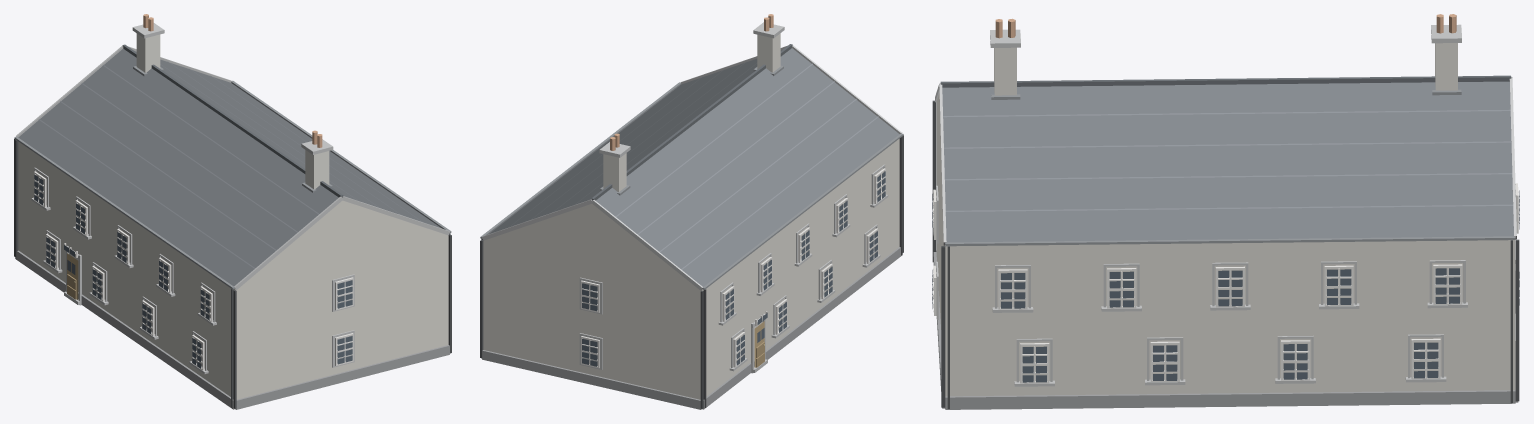
The picture shows the model from 3 angles, left to right: view 1: azimuth 30°, elevation 25°; view 2: azimuth 150°, elevation 25°; view 3: azimuth 270°, elevation 25°; orthographic projection. The views are drawn at different scales.
Parts seen in each view (by area): view 1: harl_grey, slate, stone_band, plinth, frame, slate_lt, lead, pipe, chim_render, slate_dk; view 2: harl_grey, slate, stone_band, plinth, frame, slate_lt, lead, pipe, chim_render, slate_dk; view 3: slate, harl_grey, plinth, stone_band, frame, slate_lt, slate_dk, pipe, lead, chim_render, pot.
Boxes of the visible parts, left/top/right/bottom form: harl_grey: left=18, top=141, right=448, bottom=399; slate: left=18, top=48, right=441, bottom=286; stone_band: left=16, top=23, right=449, bottom=374; plinth: left=16, top=250, right=450, bottom=409; frame: left=34, top=171, right=353, bottom=370; slate_lt: left=38, top=61, right=422, bottom=268; lead: left=14, top=66, right=451, bottom=289; pipe: left=14, top=138, right=451, bottom=408; chim_render: left=136, top=33, right=329, bottom=189; slate_dk: left=122, top=44, right=343, bottom=197; harl_grey: left=483, top=139, right=899, bottom=399; slate: left=489, top=48, right=899, bottom=286; stone_band: left=482, top=22, right=901, bottom=373; plinth: left=482, top=247, right=902, bottom=409; frame: left=581, top=168, right=885, bottom=368; slate_lt: left=509, top=61, right=878, bottom=269; lead: left=480, top=65, right=903, bottom=289; pipe: left=480, top=135, right=903, bottom=408; chim_render: left=603, top=33, right=780, bottom=191; slate_dk: left=591, top=44, right=792, bottom=200; slate: left=942, top=81, right=1513, bottom=242; harl_grey: left=936, top=93, right=1515, bottom=396; plinth: left=933, top=251, right=1518, bottom=409; stone_band: left=935, top=24, right=1516, bottom=386; frame: left=933, top=183, right=1518, bottom=383; slate_lt: left=943, top=109, right=1513, bottom=211; slate_dk: left=940, top=75, right=1511, bottom=87; pipe: left=932, top=100, right=1519, bottom=408; lead: left=945, top=89, right=1515, bottom=246; chim_render: left=994, top=43, right=1457, bottom=95; pot: left=995, top=14, right=1456, bottom=38.
Size of the model in its own units: 11.86 by 11.22 by 18.9.
